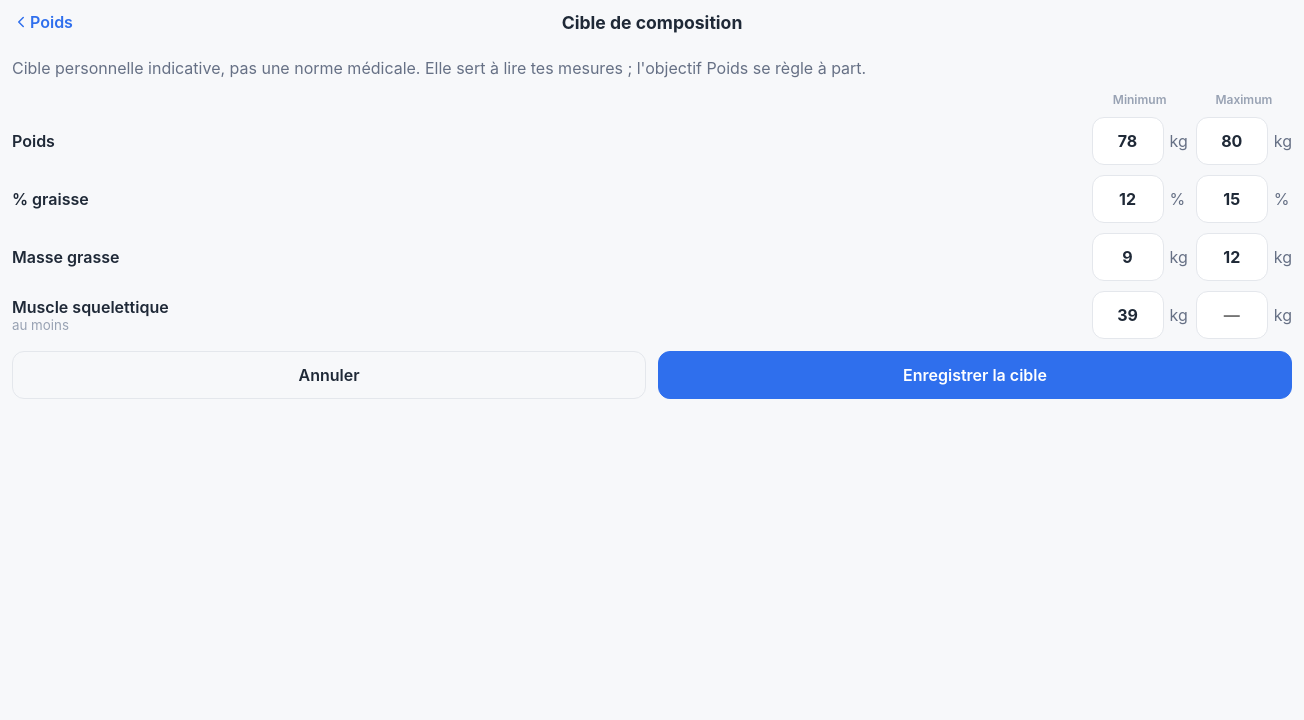
Test case: objectif Poids, en clair › modifier la cible de composition ne touche pas l'objectif Poids
The image size is (1304, 720).
expect the heading "Cible de composition" is shown: met, box [562,12,742,32]
Replace the text in the field named "Poids minimum en kg" with "76" at (1128, 141), box [1092,117,1164,165]
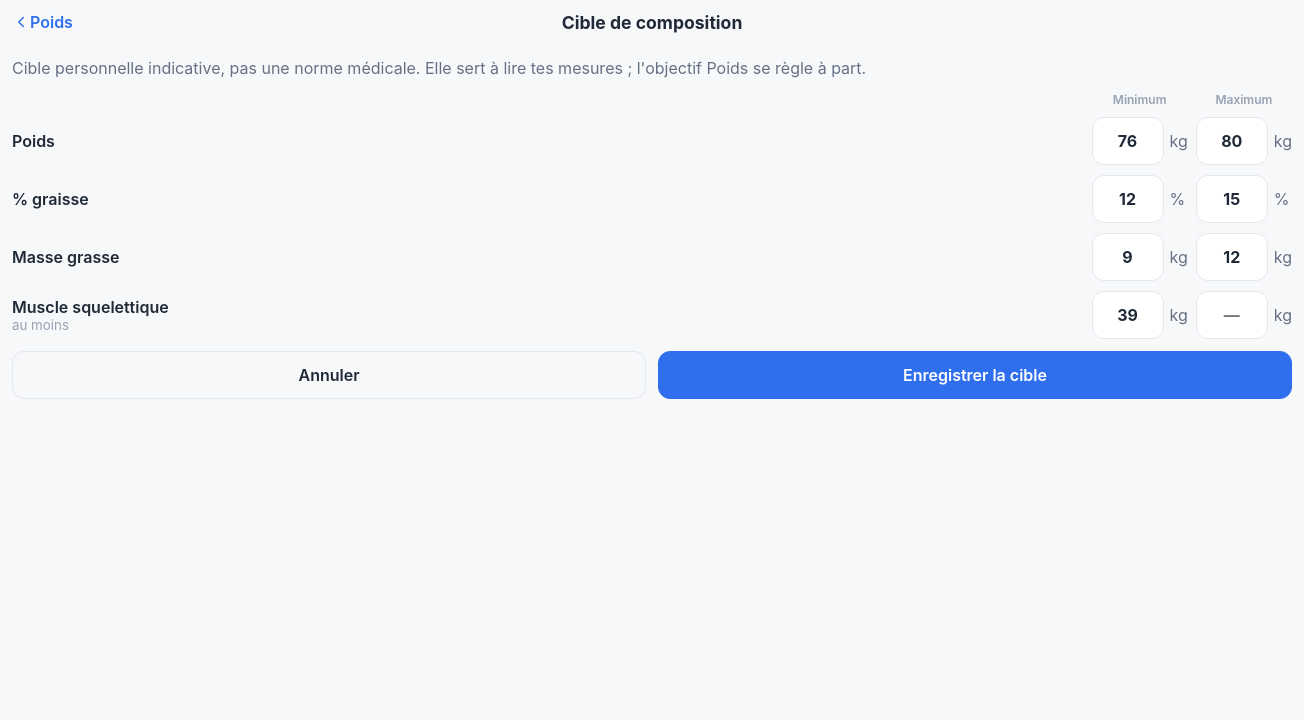
Replace the text in the field named "Poids maximum en kg" with "78" at (1232, 141), box [1196,117,1268,165]
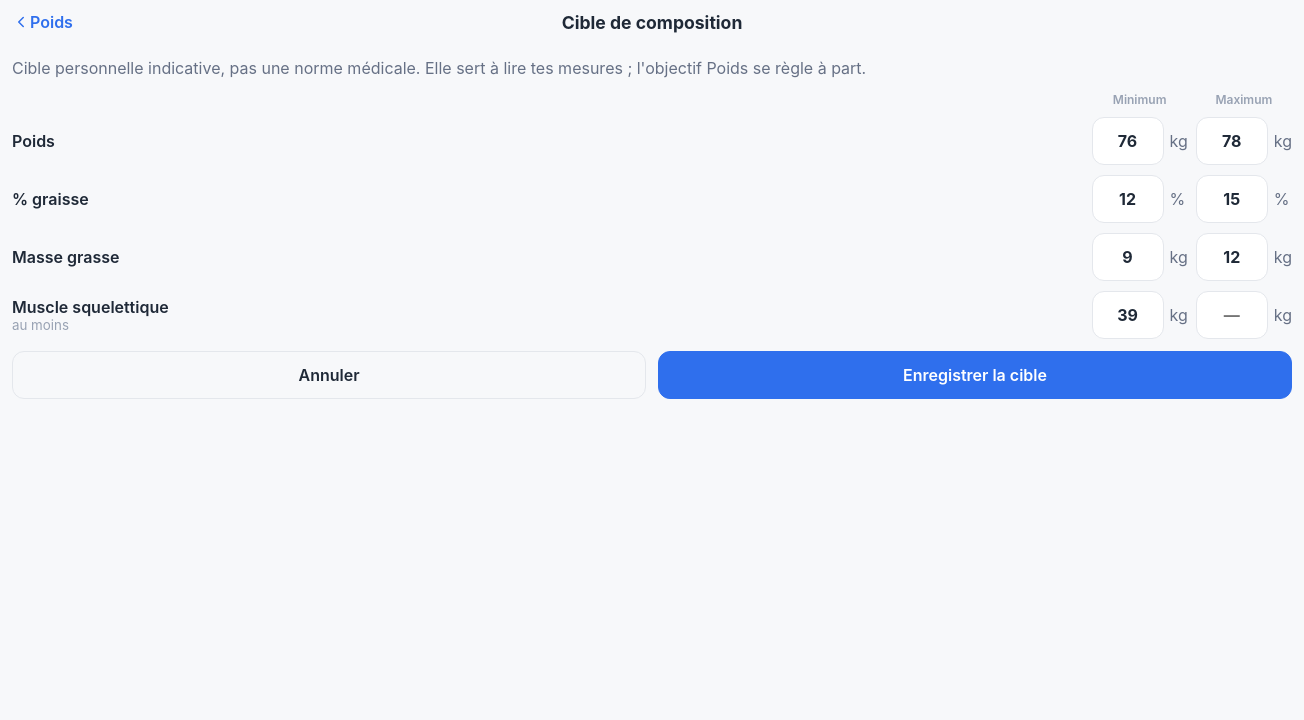
Click the button "Enregistrer la cible" at (975, 375), box [658,351,1292,399]
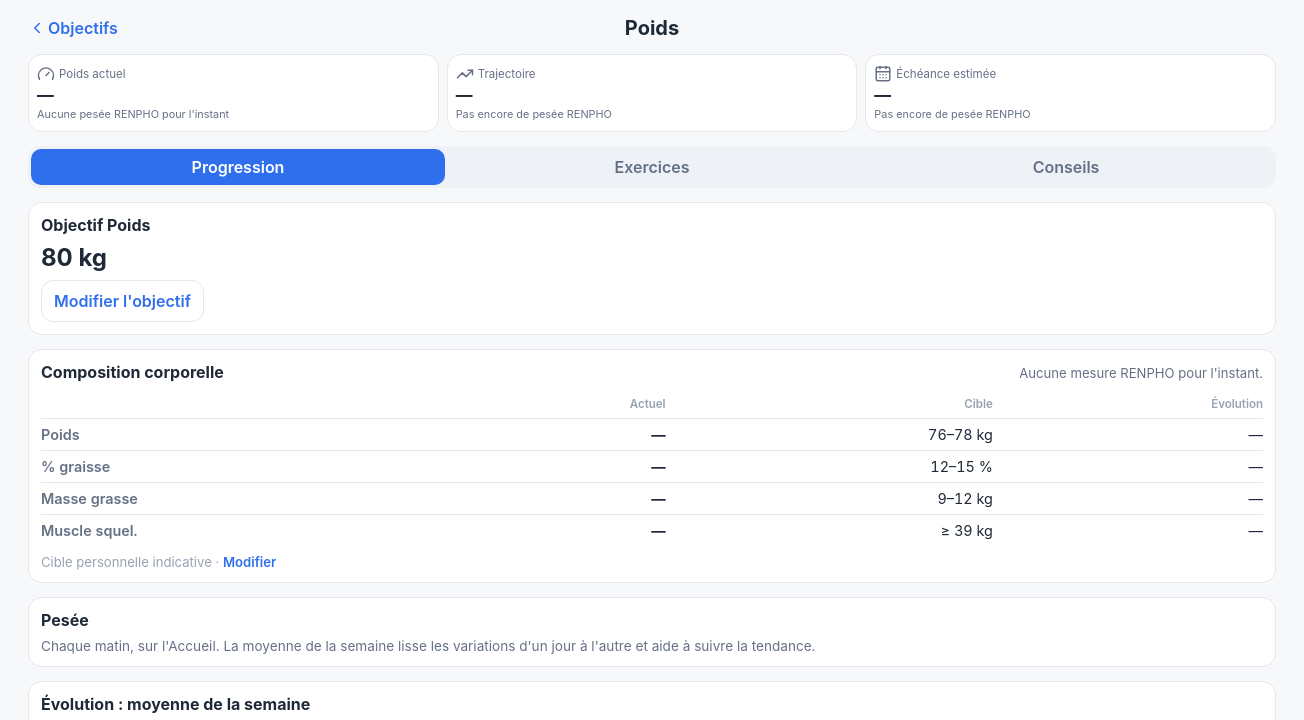
expect the text "80 kg" is shown: met, box [41,243,107,272]
